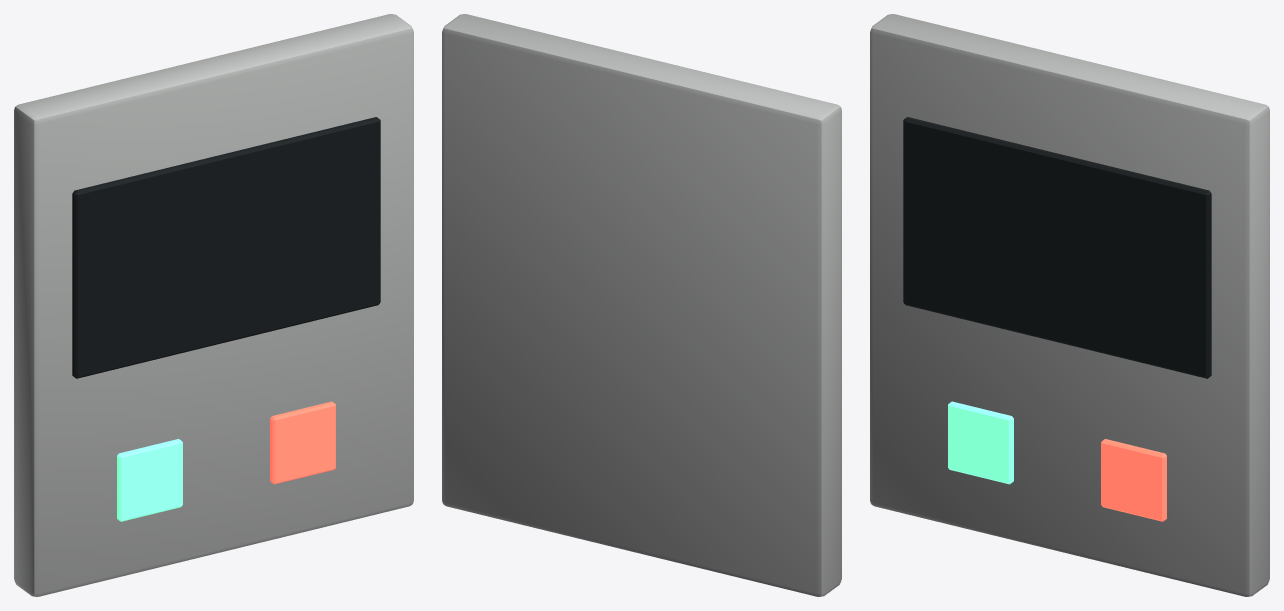
The model's file is sc-pressure-monitor.glb.
3 views of the same model, side by side, from view 1: azimuth 30°, elevation 25°; view 2: azimuth 150°, elevation 25°; view 3: azimuth 330°, elevation 25° (orthographic).
Parts seen in each view (by area): view 1: sc-pressure-monitor; view 2: sc-pressure-monitor; view 3: sc-pressure-monitor.
Part boxes in pixels (left/top/right/bottom): sc-pressure-monitor: left=14, top=14, right=413, bottom=596; sc-pressure-monitor: left=442, top=14, right=841, bottom=596; sc-pressure-monitor: left=870, top=14, right=1269, bottom=596.
Bounding box in the file's own units: 0.3 × 0.36 × 0.035.
